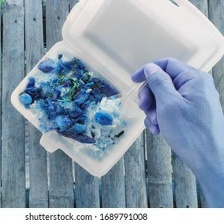foam_box: (6, 0, 223, 183)
